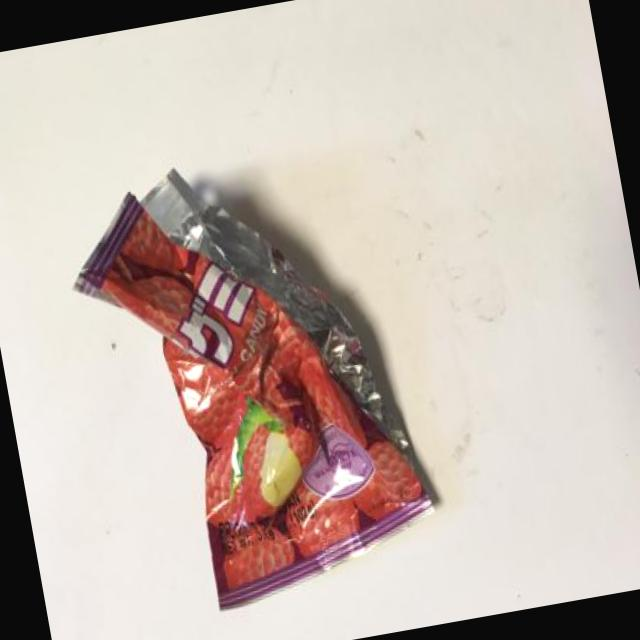Trash: (52, 130, 446, 628)
